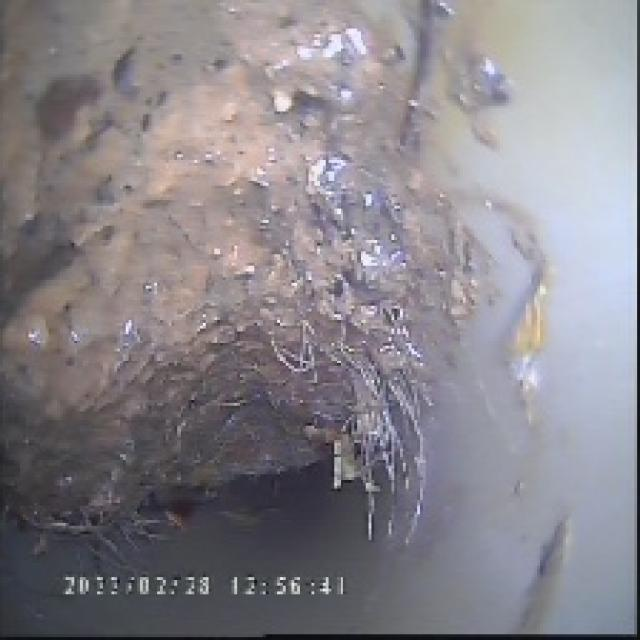sluge accumulation: (54, 37, 474, 526)
